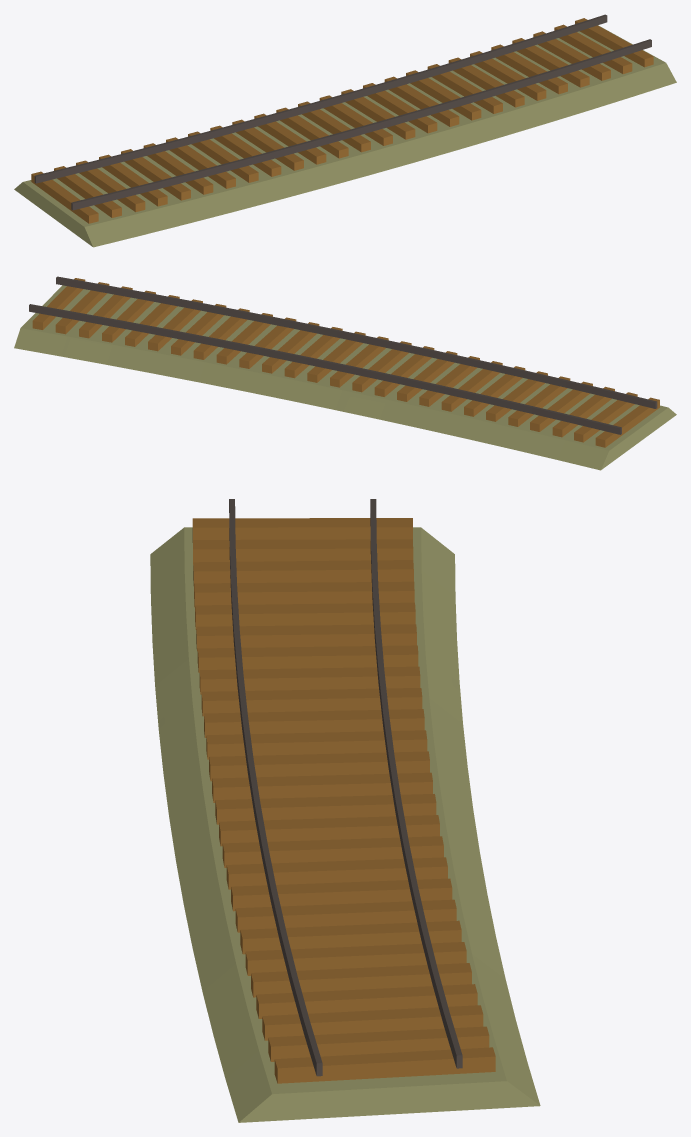
The model's file is SM_Via_CurvaR120_v1_Madera_LOD0.fbx.
3 renders of one model, top to bottom at view 1: azimuth 30°, elevation 25°; view 2: azimuth 150°, elevation 25°; view 3: azimuth 270°, elevation 25°, orthographic. The views are drawn at different scales.
Parts seen in each view (by area): view 1: SM_via_trazado_v16_LOD0; view 2: SM_via_trazado_v16_LOD0; view 3: SM_via_trazado_v16_LOD0.
Part boxes in pixels (bbox=[...]): SM_via_trazado_v16_LOD0: bbox=[14, 14, 676, 247]; SM_via_trazado_v16_LOD0: bbox=[14, 276, 676, 470]; SM_via_trazado_v16_LOD0: bbox=[150, 499, 540, 1122].
Size of the model in its own units: 15.9 by 0.72 by 4.61.
